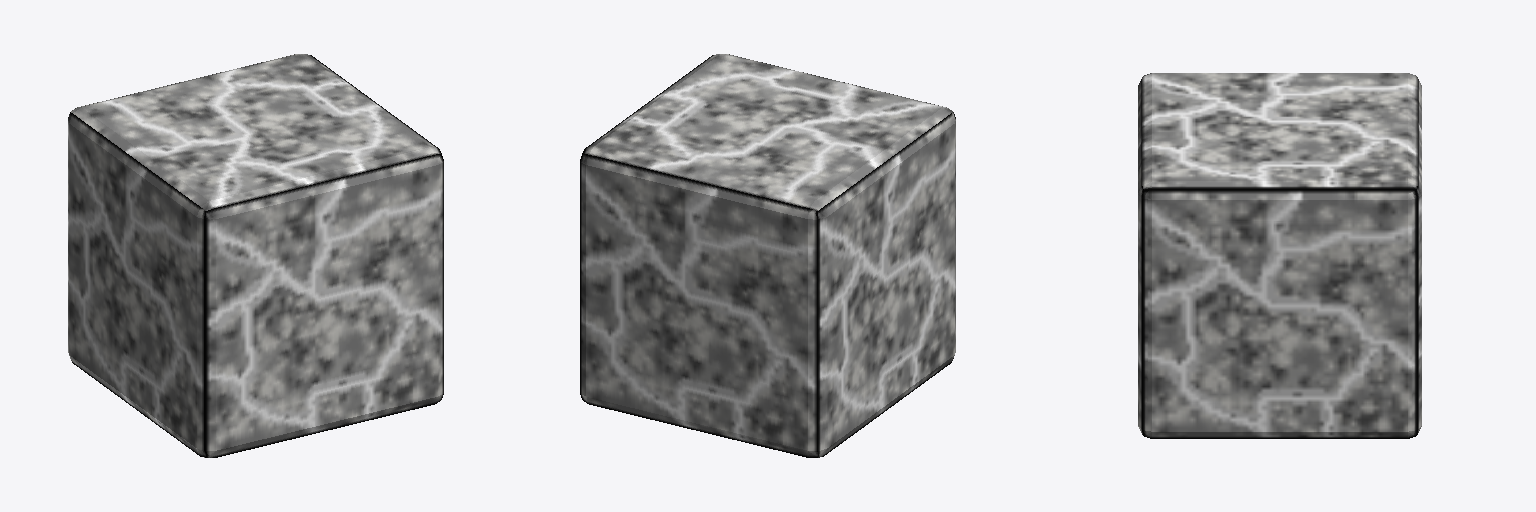
3 views of the same model, side by side, from view 1: azimuth 30°, elevation 25°; view 2: azimuth 150°, elevation 25°; view 3: azimuth 270°, elevation 25° (orthographic).
Parts seen in each view (by area): view 1: 立方体; view 2: 立方体; view 3: 立方体.
Boxes of the visible parts, box(x1,y1,x2,y2) form: 立方体: box(68, 54, 443, 457); 立方体: box(580, 54, 955, 457); 立方体: box(1138, 73, 1421, 438).
Size of the model in its own units: 2 by 2 by 2.
1 materials, 1 textured.